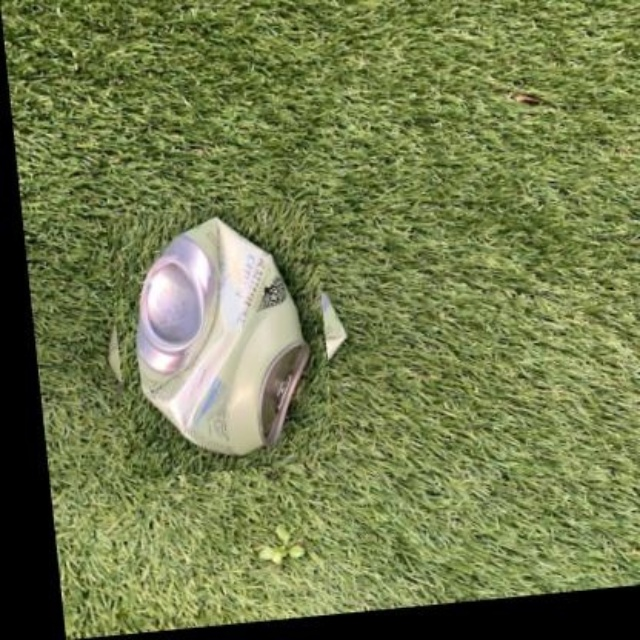trash: (137, 218, 308, 454)
